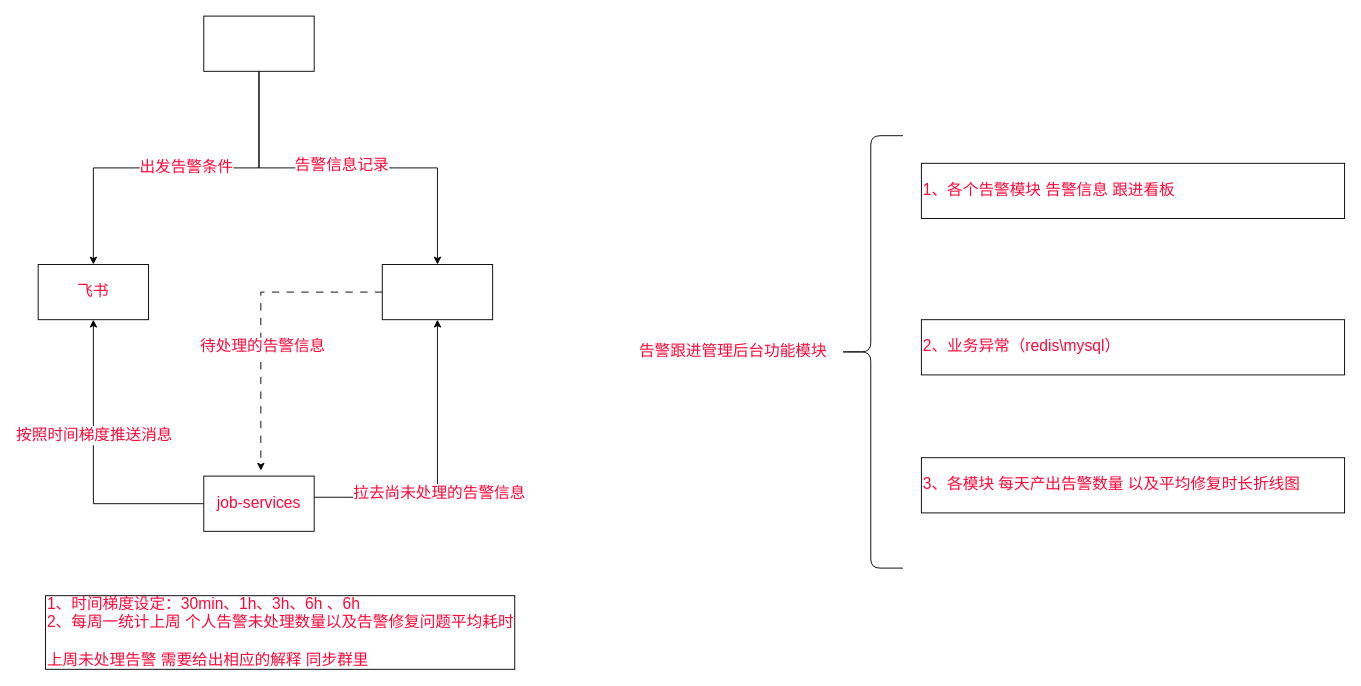
Some shapes in this 1361 by 686 pixel diagram are drawn without their labels. The shapes that lost their labels are listed below. From the top down, each one's box as (x1, y1, x2, y2) in pixels, then its label:
(203, 15, 314, 71): app-services 指标监控
(381, 264, 493, 320): DB
